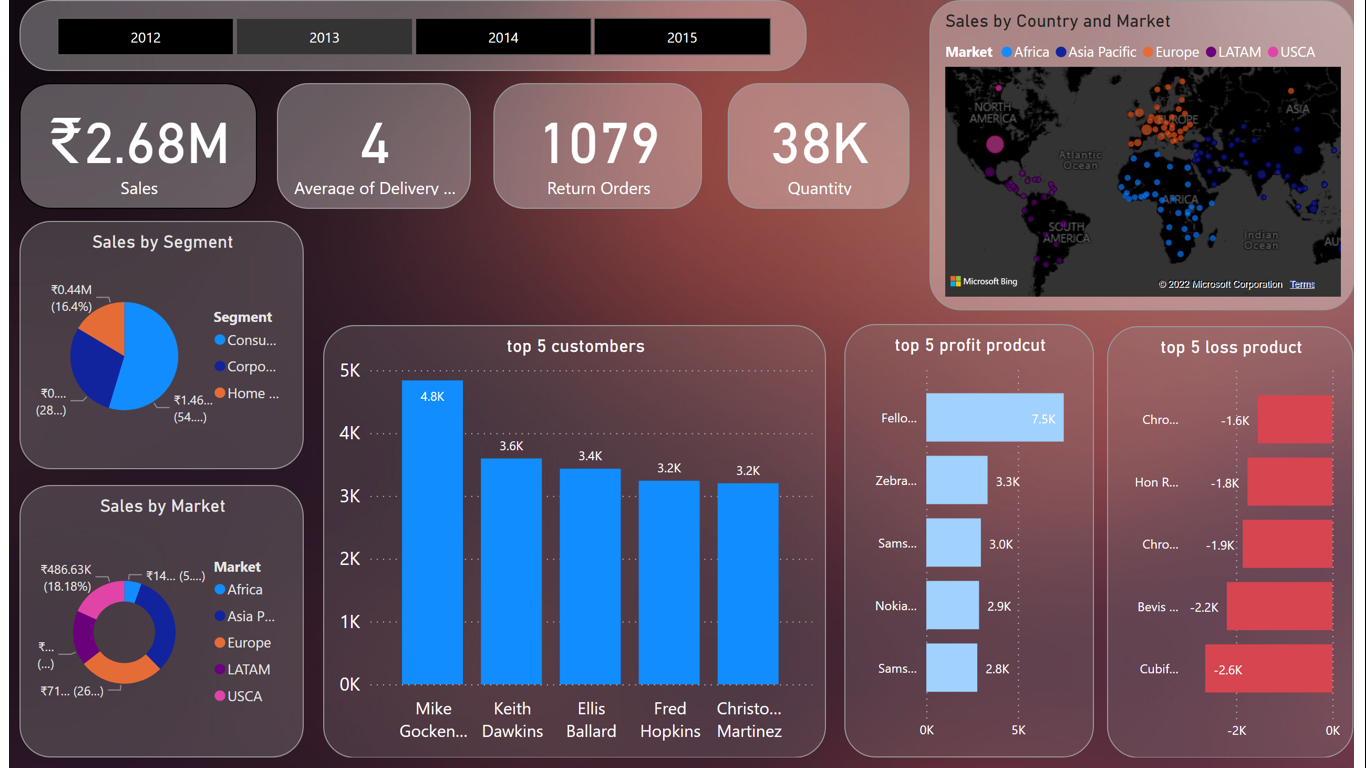

This screenshot's page, from the dashboard's own definition file:
{"tool":"powerbi","page":{"name":"Page 1","canvas":[1280,720],"ordinal":0},"visuals":[{"type":"card","fields":{"Values":["Orders.Sales"]},"box":[10.1,79.2,226.1,119.5],"z":0},{"type":"card","fields":{"Values":["Orders.Quantity"]},"box":[684,79.2,172.8,119.5],"z":1000},{"type":"card","fields":{"Values":["Orders.Delivery Days"]},"box":[254.9,79.2,184.3,119.5],"z":2000},{"type":"slicer","fields":{"Values":["Orders.Year"]},"box":[10.1,0,748.8,67.7],"z":3000},{"type":"card","fields":{"Values":["Returns.Return Orders"]},"box":[460.8,79.2,198.7,119.5],"z":4000},{"type":"map","fields":{"Category":["Orders.Country"],"Series":["Orders.Market"],"Size":["Orders.Sales"]},"box":[875.5,0,404.6,295.2],"z":5000},{"type":"barChart","title":"top 5 profit prodcut","fields":{"Y":["Orders.Profit"],"Category":["Orders.Product Name"]},"box":[794.9,308.2,237.6,411.8],"z":5001},{"type":"barChart","title":"top 5 loss product","fields":{"Y":["Orders.Profit"],"Category":["Orders.Product Name"]},"box":[1045.4,309.6,234.7,410.4],"z":5002},{"type":"pieChart","fields":{"Y":["Orders.Sales"],"Series":["Orders.Segment"]},"box":[10.1,210.2,270.7,236.2],"z":5003},{"type":"donutChart","fields":{"Y":["Orders.Sales"],"Series":["Orders.Market"]},"box":[10.1,460.8,270.7,259.2],"z":5004},{"type":"columnChart","title":"top 5 custombers","fields":{"Category":["Orders.Customer Name"],"Y":["Orders.Profit"]},"box":[299,309.1,478.7,411.5],"z":5005}]}

Visuals, with their boxes in screenshot pixels (x1, y1, x2, y2), scaled from the page's 1280x720 canvas onto the 1366x768 screenshot:
card - Orders.Sales: x1=11 y1=84 x2=252 y2=212
card - Orders.Quantity: x1=730 y1=84 x2=914 y2=212
card - Orders.Delivery Days: x1=272 y1=84 x2=469 y2=212
slicer - Orders.Year: x1=11 y1=0 x2=810 y2=72
card - Returns.Return Orders: x1=492 y1=84 x2=704 y2=212
map - Orders.Country x Orders.Market: x1=934 y1=0 x2=1365 y2=315
"top 5 profit prodcut" barChart: x1=848 y1=329 x2=1102 y2=767
"top 5 loss product" barChart: x1=1116 y1=330 x2=1365 y2=767
pieChart - Orders.Sales x Orders.Segment: x1=11 y1=224 x2=300 y2=476
donutChart - Orders.Sales x Orders.Market: x1=11 y1=492 x2=300 y2=767
"top 5 custombers" columnChart: x1=319 y1=330 x2=830 y2=767
